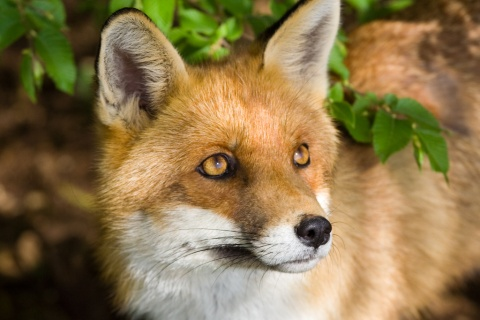Fox: (86, 0, 480, 320)
